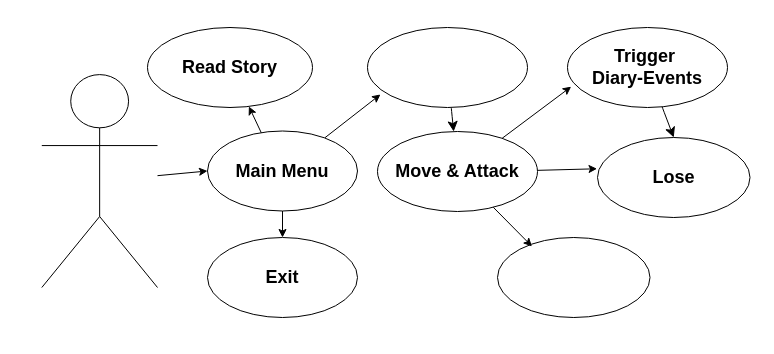
Image size: 774x354. Some labels were removed from this diagram. Each missing label, with the box of its shape:
Player: (41, 74, 158, 288)
Select Hero & Difficulty: (366, 26, 528, 108)
Win: (496, 236, 650, 318)
